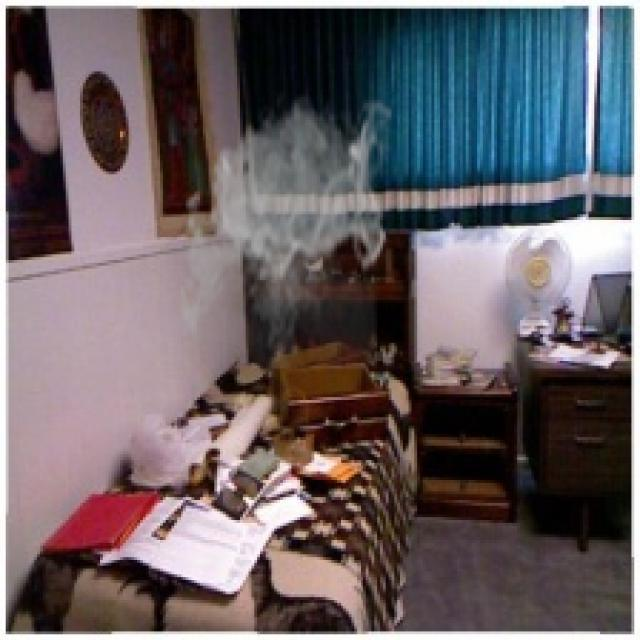Smoke: (172, 92, 392, 368)
